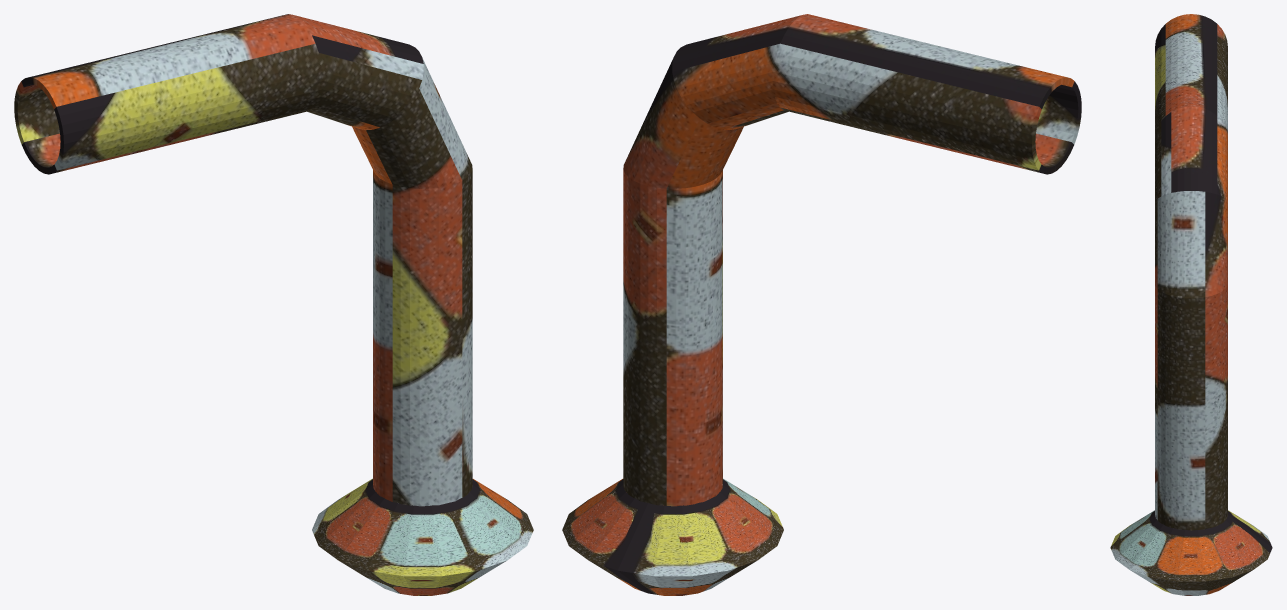
Rendered from FlyZone_StarWars.fbx.
3 renders of one model, left to right at view 1: azimuth 30°, elevation 25°; view 2: azimuth 150°, elevation 25°; view 3: azimuth 270°, elevation 25°, orthographic. The views are drawn at different scales.
Parts seen in each view (by area): view 1: Circle.001, Cylinder; view 2: Circle.001, Cylinder; view 3: Circle.001, Cylinder.
Boxes of the visible parts, x1=… form: Circle.001: x1=14, y1=14, x2=472, y2=506; Cylinder: x1=312, y1=478, x2=533, y2=595; Circle.001: x1=623, y1=14, x2=1081, y2=506; Cylinder: x1=562, y1=478, x2=783, y2=595; Circle.001: x1=1155, y1=14, x2=1227, y2=530; Cylinder: x1=1110, y1=510, x2=1272, y2=595.
Bounding box in the file's own units: 1108 × 1302 × 445.
